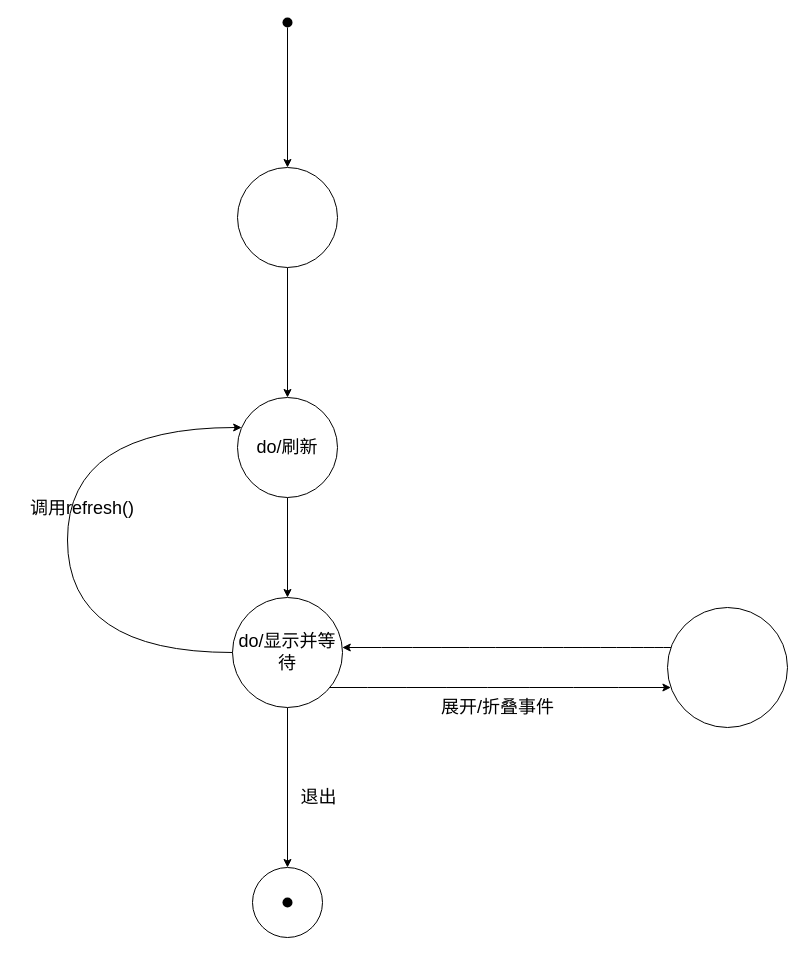
Image size: 805x955. Some labels were removed from this diagram. Here are the shapes that lost their labels. From the top down, the centre of each, then its label:
(287,217): do/初始化
(727,667): do/记录展开/折叠情况
